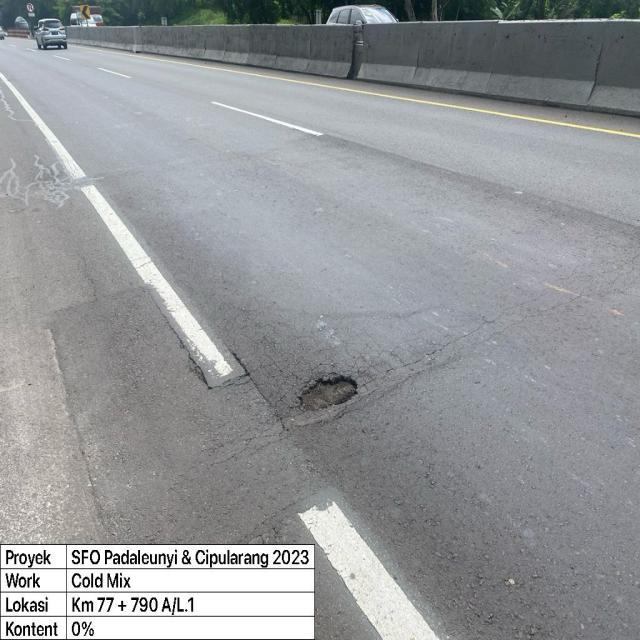Buraco: (293, 373, 363, 415)
